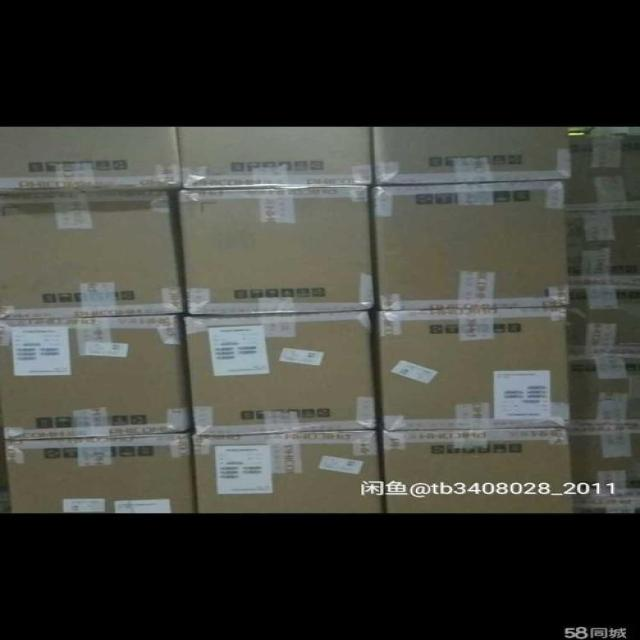box: (373, 180, 568, 311), (176, 187, 374, 314), (0, 189, 186, 322), (187, 309, 379, 434), (378, 307, 567, 431), (383, 427, 573, 513), (192, 430, 379, 513), (7, 432, 199, 512), (0, 126, 181, 194), (178, 127, 372, 188), (370, 127, 570, 185), (567, 424, 639, 512), (562, 127, 639, 209), (565, 206, 639, 285), (568, 350, 639, 426), (568, 284, 639, 352)
